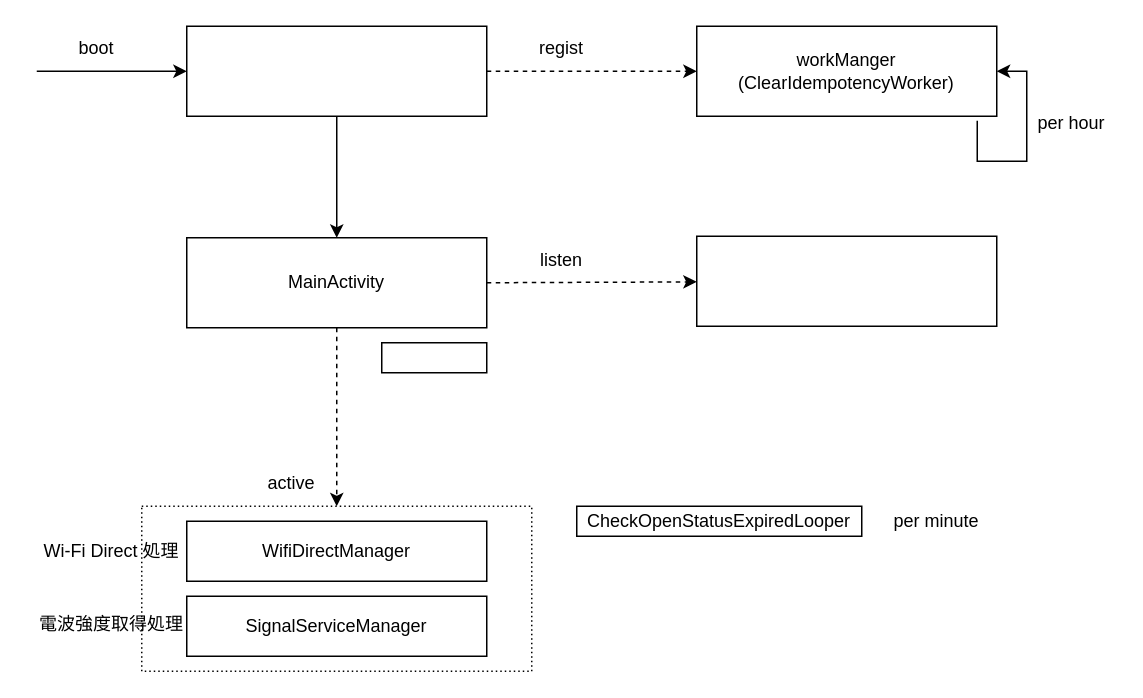
Some shapes in this 1143 by 698 pixel diagram are drawn without their labels. The shapes that lost their labels are listed below. From the top down, each one's box as (x1, y1, x2, y2) in pixels, then its label:
(185, 25, 487, 116): PayTerminalApplication
(695, 235, 997, 326): HTTP Server
(380, 341, 487, 373): timer
